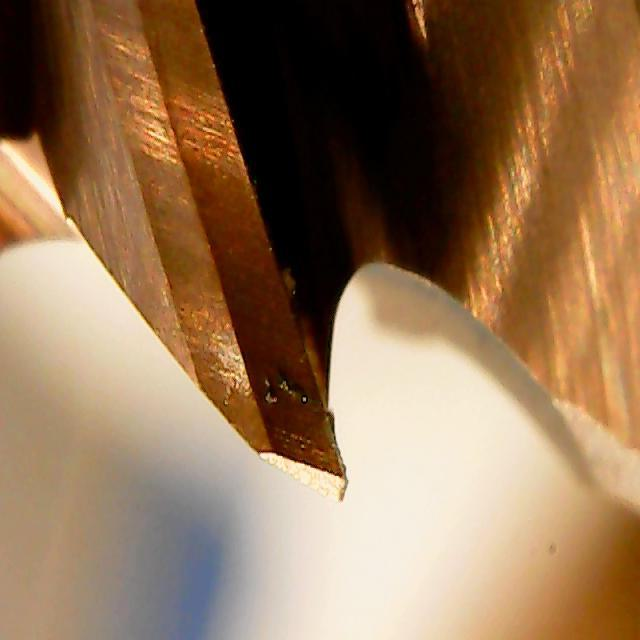Tool-wear-class-1: (189, 269, 349, 520)
